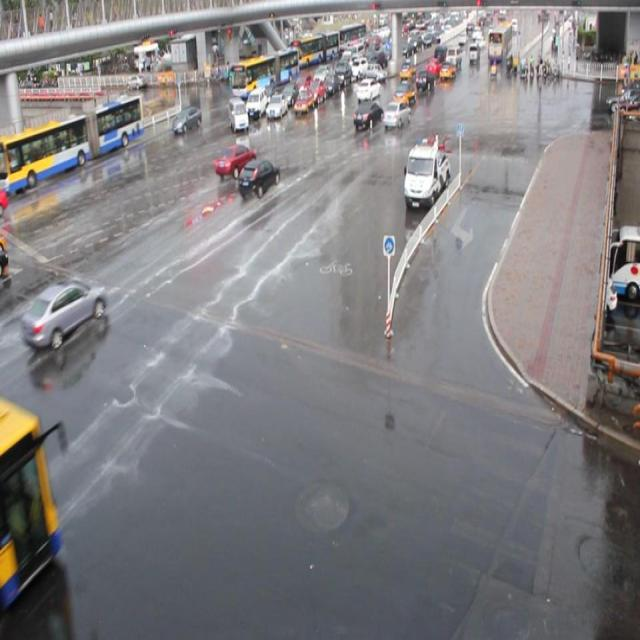bus: (402, 140, 450, 208)
car: (21, 280, 108, 349), (237, 158, 280, 198), (214, 142, 256, 177), (352, 100, 384, 128), (172, 105, 202, 132), (382, 100, 410, 128), (392, 80, 416, 106), (356, 77, 381, 101), (292, 90, 313, 116), (263, 78, 285, 102), (266, 94, 287, 118), (304, 79, 324, 104), (279, 81, 299, 105), (291, 74, 311, 95)
truck: (228, 96, 248, 132), (245, 87, 267, 119)
van: (0, 94, 144, 190), (1, 404, 60, 613), (230, 48, 300, 98)
